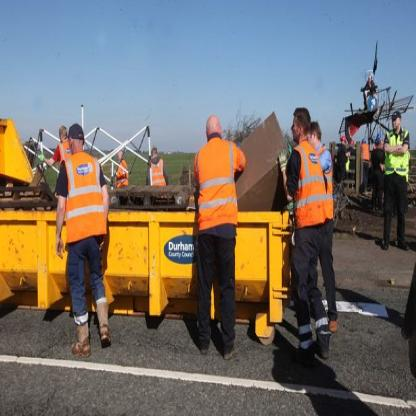person: (47, 106, 115, 382), (181, 101, 246, 376), (282, 98, 336, 364), (144, 130, 166, 186)
